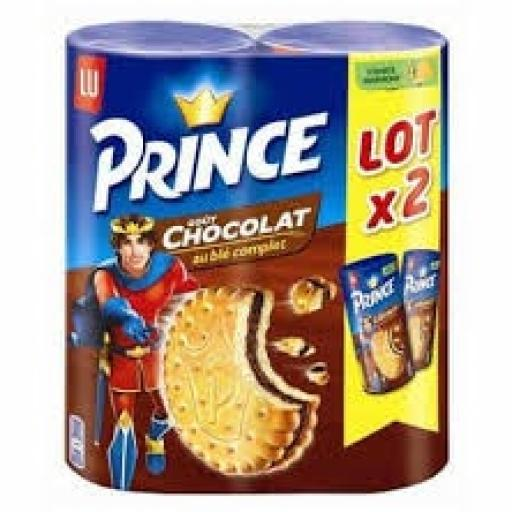prince: (56, 24, 257, 502)
